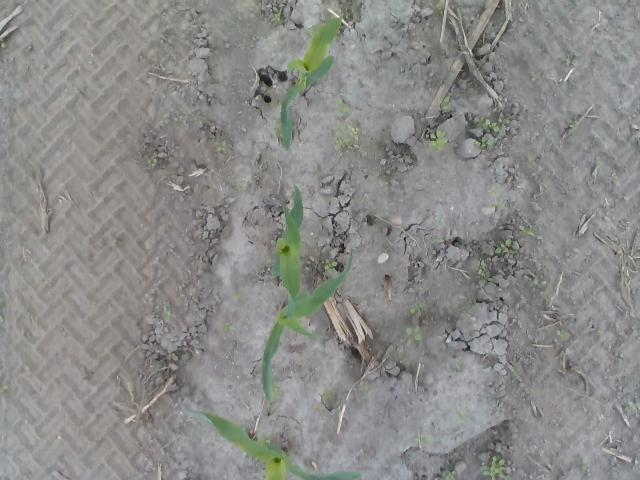Maize: (261, 249, 353, 403), (182, 410, 364, 480), (279, 15, 342, 150), (272, 180, 306, 280)
Weeds: (333, 98, 361, 150), (472, 110, 510, 147), (478, 453, 511, 480), (429, 128, 450, 147), (492, 236, 512, 255), (489, 184, 501, 209), (404, 326, 422, 342), (475, 268, 493, 284), (534, 281, 551, 297), (322, 258, 338, 273), (559, 329, 576, 342), (408, 302, 426, 314), (622, 401, 640, 412), (455, 410, 470, 423), (359, 383, 374, 395), (519, 225, 534, 237), (418, 433, 434, 444), (576, 456, 588, 470), (143, 158, 161, 167), (440, 96, 450, 112), (162, 304, 172, 320), (240, 0, 256, 10), (530, 71, 543, 83), (444, 471, 458, 480), (566, 118, 578, 128), (214, 142, 225, 152), (270, 13, 280, 23), (222, 324, 234, 332), (0, 384, 8, 394), (0, 38, 7, 49), (271, 384, 279, 393), (237, 183, 245, 192), (232, 292, 240, 300), (168, 352, 175, 359)
